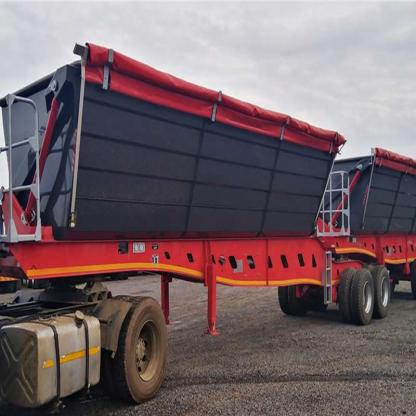dump_truck: (15, 28, 416, 390)
